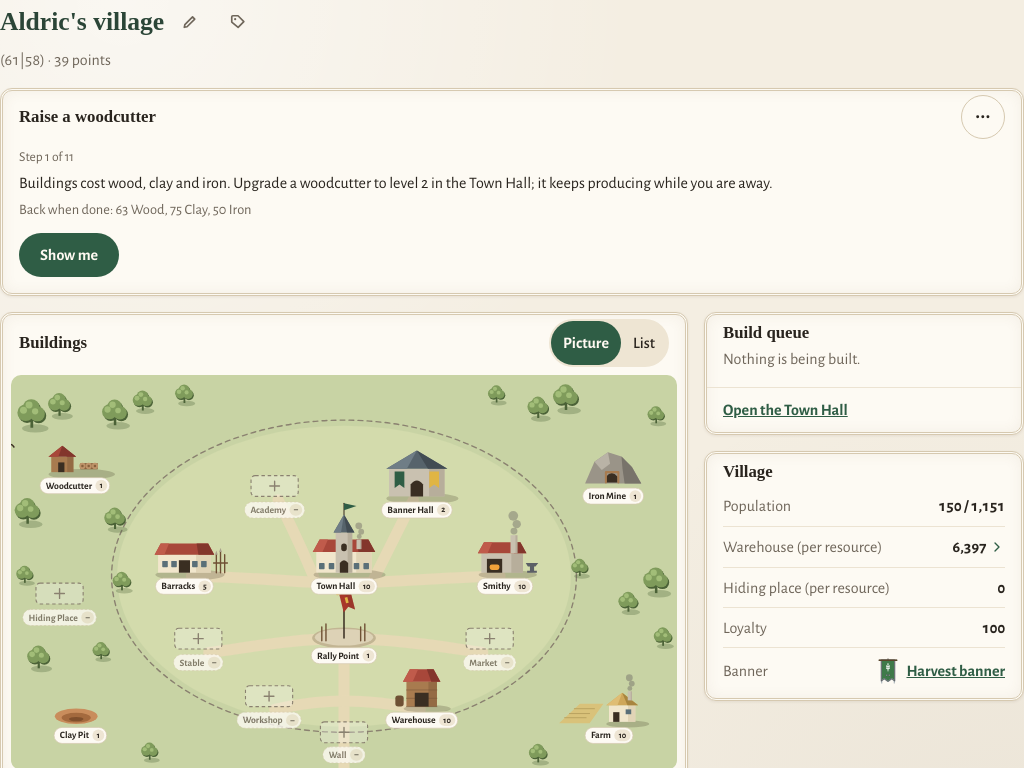
Scenario: the tutorial card on the village page › lists every step with where it stands in the "All steps" sheet
Click the button named "More for the tutorial".
click(983, 117)  # box [961, 95, 1005, 139]
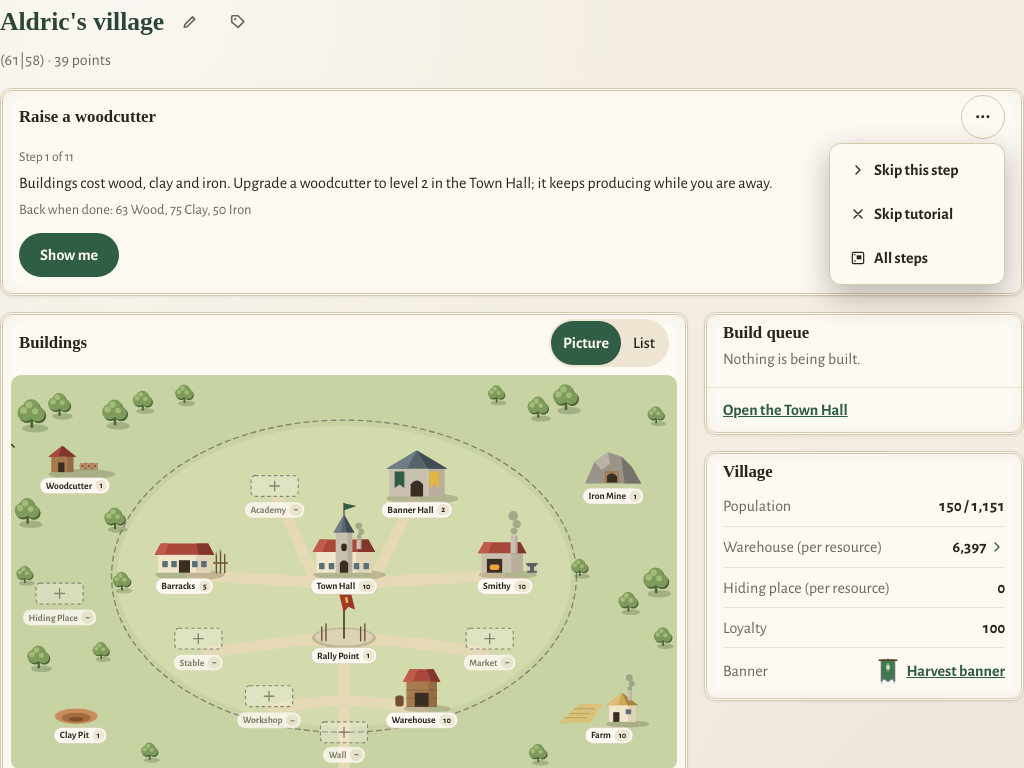
Click the button "All steps".
click(917, 258)  # box [834, 236, 1000, 280]
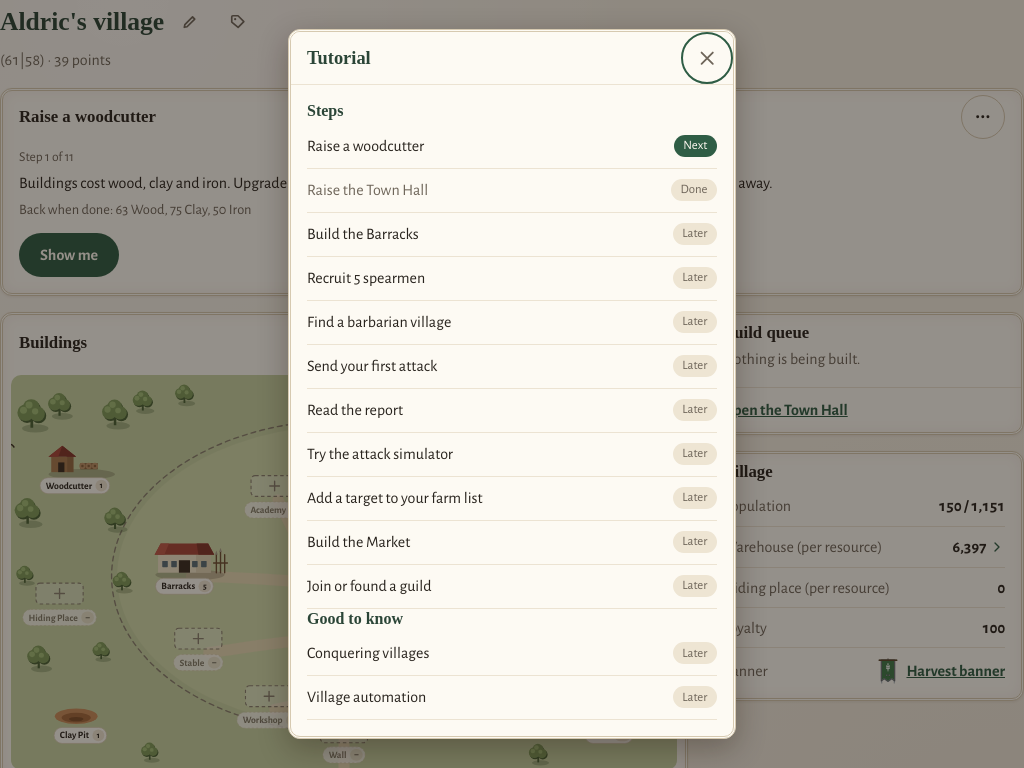
Now the heading "Steps" is shown, box [307, 102, 344, 119]
Now the heading "Good to know" is shown, box [307, 610, 403, 626]
Now the text "Next" is shown once, box [674, 135, 717, 157]
